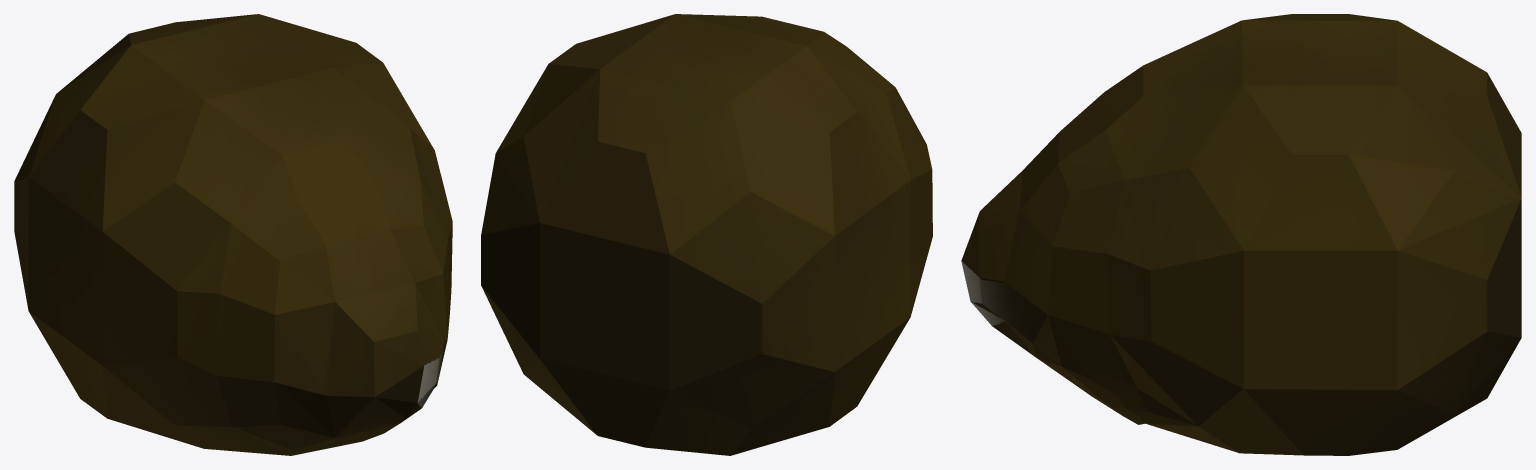
Rendered from render.obj.
3 views of the same model, side by side, from view 1: azimuth 30°, elevation 25°; view 2: azimuth 150°, elevation 25°; view 3: azimuth 270°, elevation 25° (orthographic). The views are drawn at different scales.
Visible parts, largest first — view 1: Quad_Sphere; view 2: Quad_Sphere; view 3: Quad_Sphere.
Boxes of the visible parts, x1,y1,x2,y2 form: Quad_Sphere: [14, 14, 452, 455]; Quad_Sphere: [481, 14, 932, 455]; Quad_Sphere: [961, 14, 1521, 455].
Size of the model in its own units: 2.17 by 2.18 by 3.02.
Materials: 1 (1 with a texture image).
